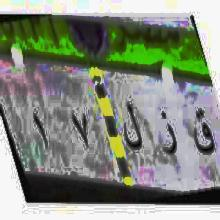1: (32, 108, 50, 156)
7: (72, 104, 88, 152)
laam: (122, 93, 142, 158)
qaaf: (191, 100, 215, 164)
zay: (157, 104, 179, 169)
